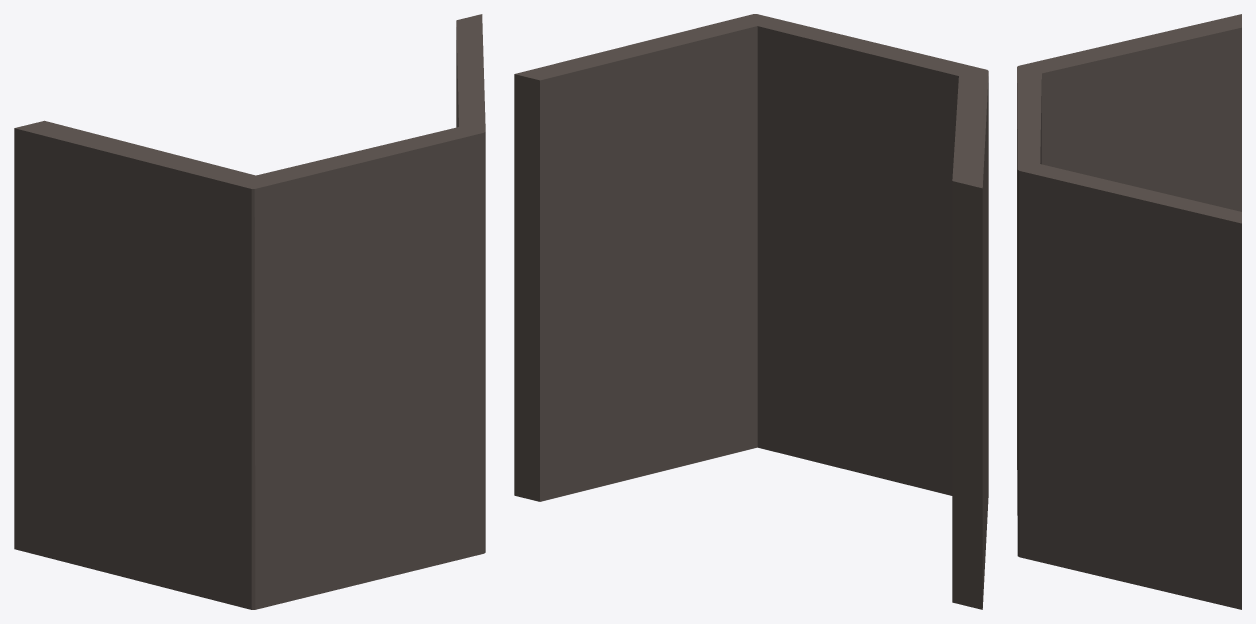
Rendered from MCastle_SmallTurret_03.FBX.
3 views of the same model, side by side, from view 1: azimuth 30°, elevation 25°; view 2: azimuth 150°, elevation 25°; view 3: azimuth 270°, elevation 25° (orthographic). The views are drawn at different scales.
Visible parts, largest first — view 1: MCastle_SmallTurret_03; view 2: MCastle_SmallTurret_03; view 3: MCastle_SmallTurret_03.
Part boxes in pixels (x1,y1,x2,y2): MCastle_SmallTurret_03: (14,14,485,609); MCastle_SmallTurret_03: (514,14,988,609); MCastle_SmallTurret_03: (1017,14,1241,609).
Bounding box in the file's own units: 5.23 × 4.5 × 2.37.
